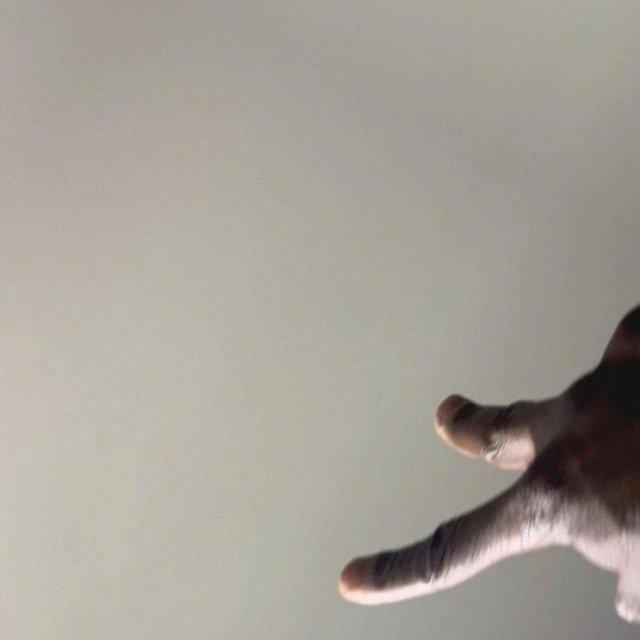Scissors: (326, 188, 640, 640)
